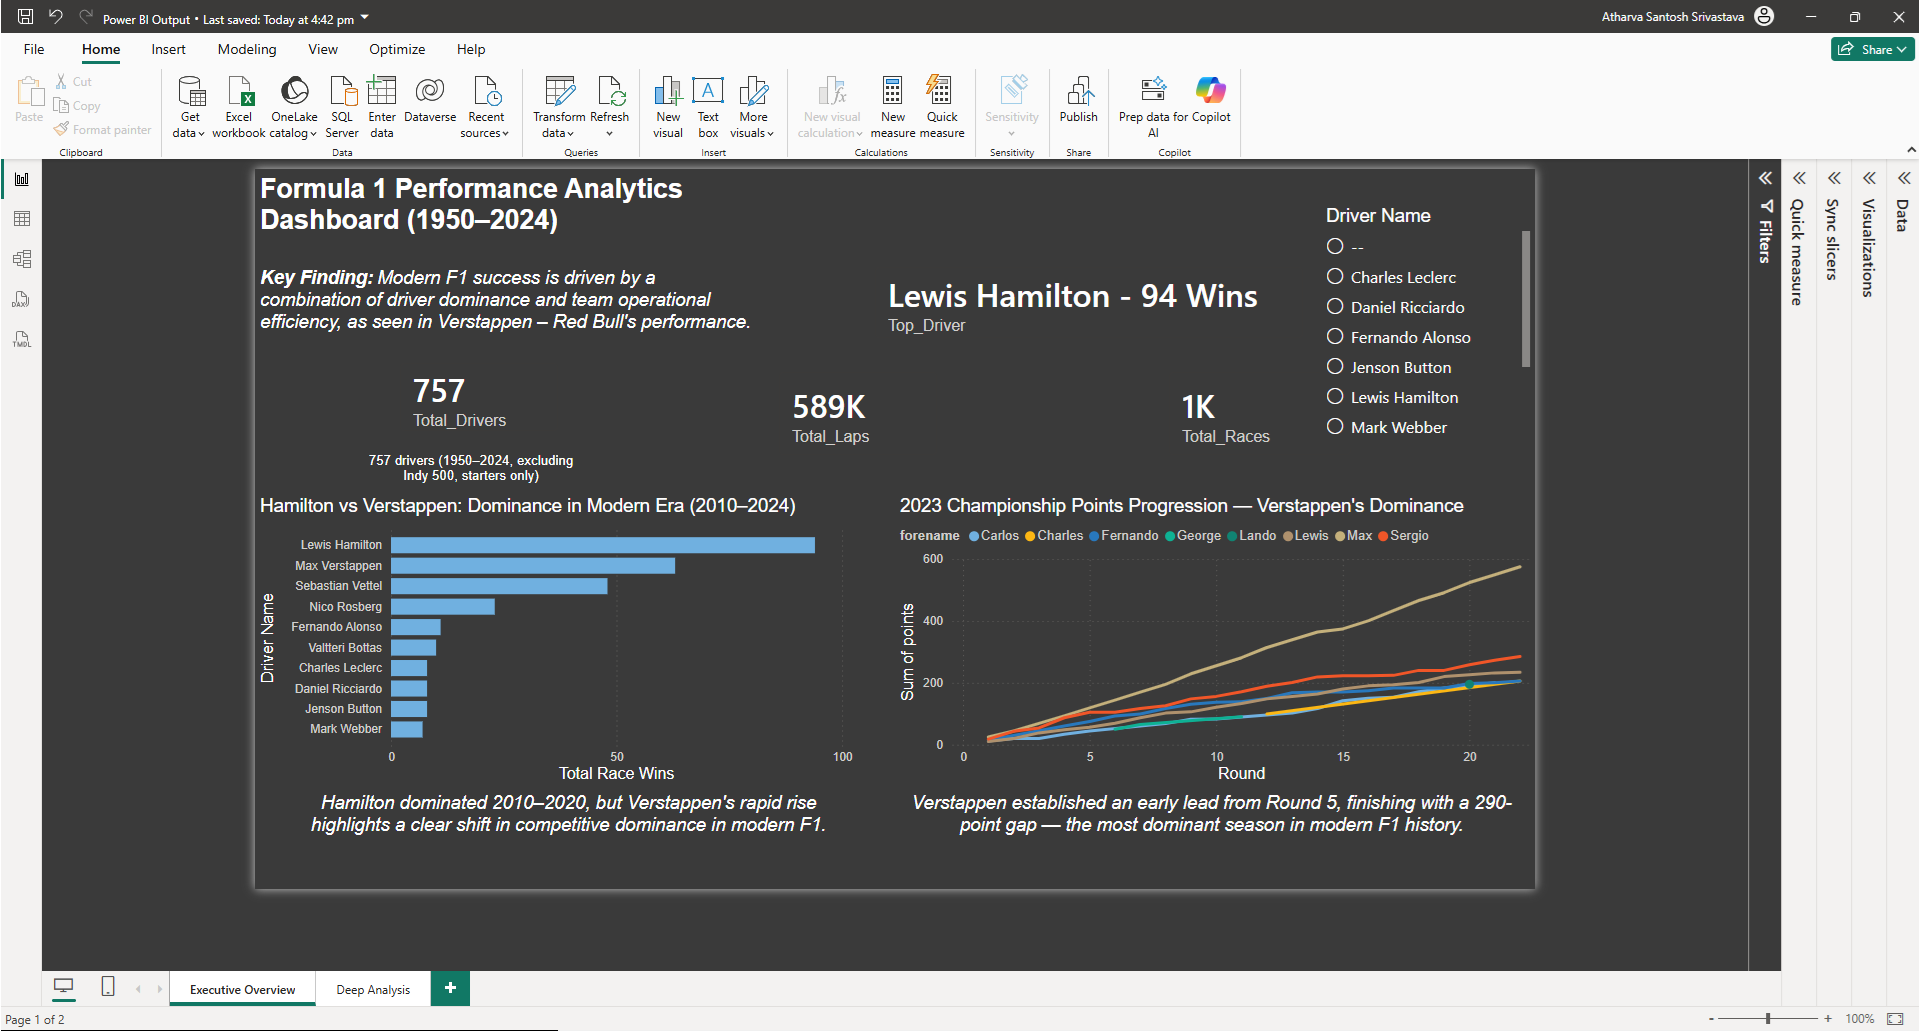

The page's visual inventory and layout, read from the dashboard file:
{"tool":"powerbi","page":{"name":"Executive Overview","canvas":[1280,720],"ordinal":0},"visuals":[{"type":"textbox","box":[0,0,509,81],"z":0},{"type":"textbox","box":[0,93,509,84],"z":1000},{"type":"cardVisual","fields":{"Data":["championship_2023.Total_Drivers"]},"box":[128,177,192,102],"z":2000},{"type":"cardVisual","fields":{"Data":["championship_2023.Total_Laps"]},"box":[506.9,186.5,191.9,116.8],"z":3000},{"type":"cardVisual","fields":{"Data":["championship_2023.Total_Races"]},"box":[897.1,186.5,215.4,116.8],"z":4000},{"type":"clusteredBarChart","title":"Hamilton vs Verstappen: Dominance in Modern Era (2010–2024)","fields":{"Y":["Sum(race_wins.total_wins)"],"Category":["race_wins.Driver Name"]},"box":[0,325.9,602.9,292.4],"z":5000},{"type":"textbox","box":[23.5,618.3,579.3,81.5],"z":6000},{"type":"lineChart","title":"2023 Championship Points Progression — Verstappen''s Dominance","fields":{"Category":["championship_2023.round"],"Y":["Sum(championship_2023.points)"],"Series":["championship_2023.forename"]},"box":[640,325.9,640,292.4],"z":7000},{"type":"textbox","box":[640,618.3,632.8,81.5],"z":8000},{"type":"cardVisual","fields":{"Data":["championship_2023.Top_Driver"]},"box":[602.9,80.6,462.6,105.9],"z":10000},{"type":"listSlicer","fields":{"Values":["race_wins.Driver Name"]},"box":[1066,36,214,243],"z":12000},{"type":"textbox","box":[101,279,230,47],"z":13000}]}

Visuals, with their boxes on the page's 1280x720 design canvas (x1, y1, x2, y2). These are canvas units, not pixel positions in the 1919x1031 screenshot, which may show the page scaled, cropped or inside an application window:
textbox: l=0, t=0, r=509, b=81
textbox: l=0, t=93, r=509, b=177
cardVisual - championship_2023.Total_Drivers: l=128, t=177, r=320, b=279
cardVisual - championship_2023.Total_Laps: l=507, t=186, r=699, b=303
cardVisual - championship_2023.Total_Races: l=897, t=186, r=1112, b=303
"Hamilton vs Verstappen: Dominance in Modern Era (2010–2024)" clusteredBarChart: l=0, t=326, r=603, b=618
textbox: l=24, t=618, r=603, b=700
"2023 Championship Points Progression — Verstappen''s Dominance" lineChart: l=640, t=326, r=1280, b=618
textbox: l=640, t=618, r=1273, b=700
cardVisual - championship_2023.Top_Driver: l=603, t=81, r=1066, b=186
listSlicer - race_wins.Driver Name: l=1066, t=36, r=1280, b=279
textbox: l=101, t=279, r=331, b=326
